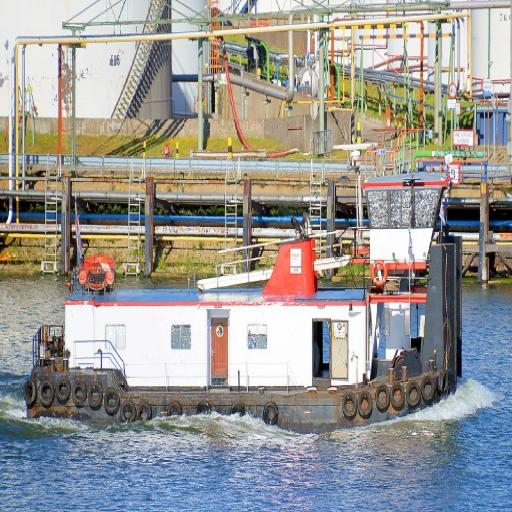tugboat: (17, 167, 469, 446)
